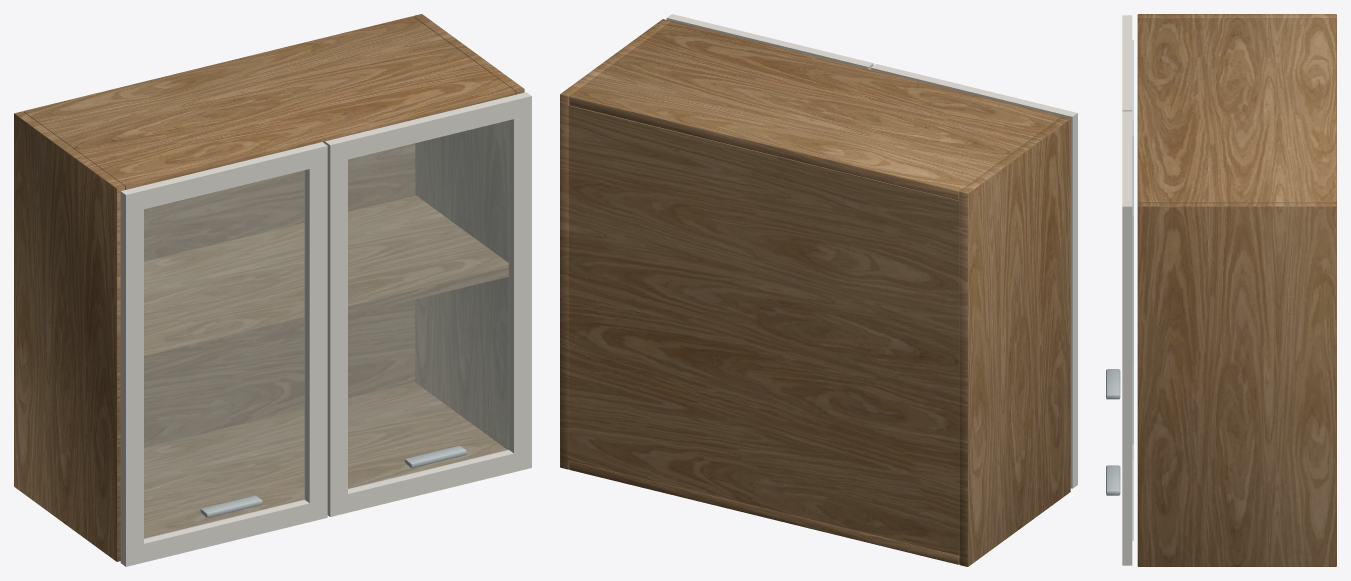
The model's file is armario_alto_cocina_vitrina_base.glb.
3 renders of one model, left to right at view 1: azimuth 30°, elevation 25°; view 2: azimuth 150°, elevation 25°; view 3: azimuth 270°, elevation 25°, orthographic. The views are drawn at different scales.
Visible parts, largest first — view 1: armario_alto_cocina_vitrina_base; view 2: armario_alto_cocina_vitrina_base; view 3: armario_alto_cocina_vitrina_base.
Boxes of the visible parts, x1,y1,x2,y2 form: armario_alto_cocina_vitrina_base: [14, 14, 531, 566]; armario_alto_cocina_vitrina_base: [560, 14, 1077, 566]; armario_alto_cocina_vitrina_base: [1106, 14, 1336, 566].
Bounding box in the file's own units: 0.8 × 0.7 × 0.4055.
Materials: 4 (1 with a texture image).
